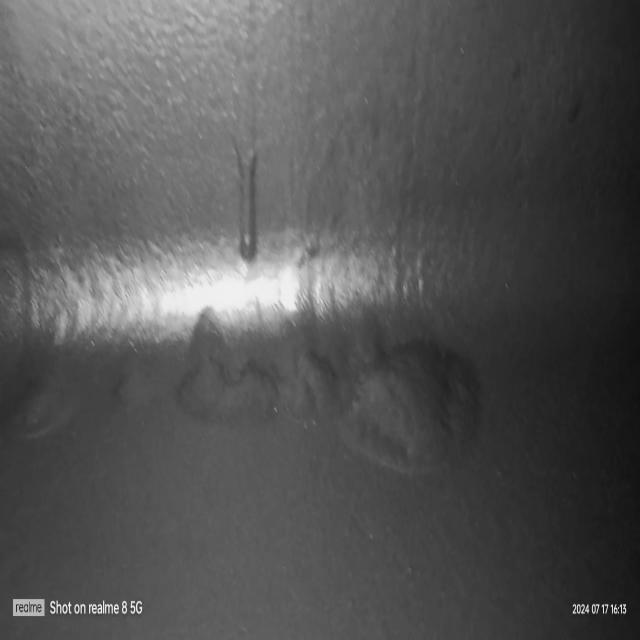paint drips: (228, 2, 270, 266)
